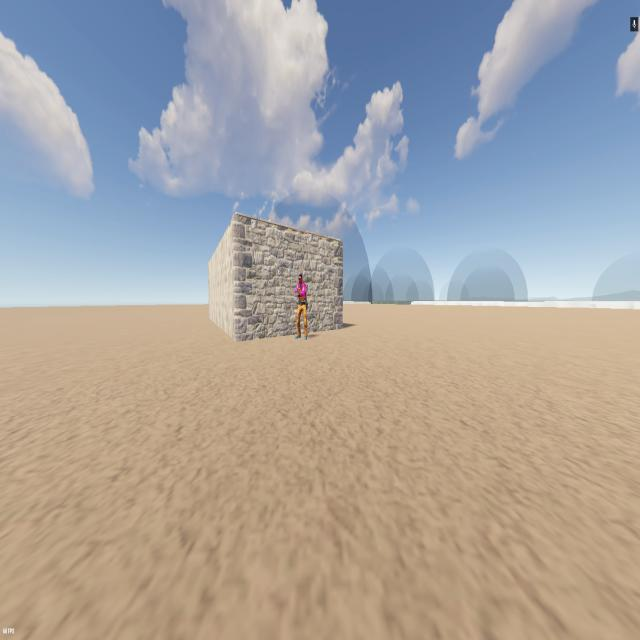Player: (294, 272, 309, 342)
